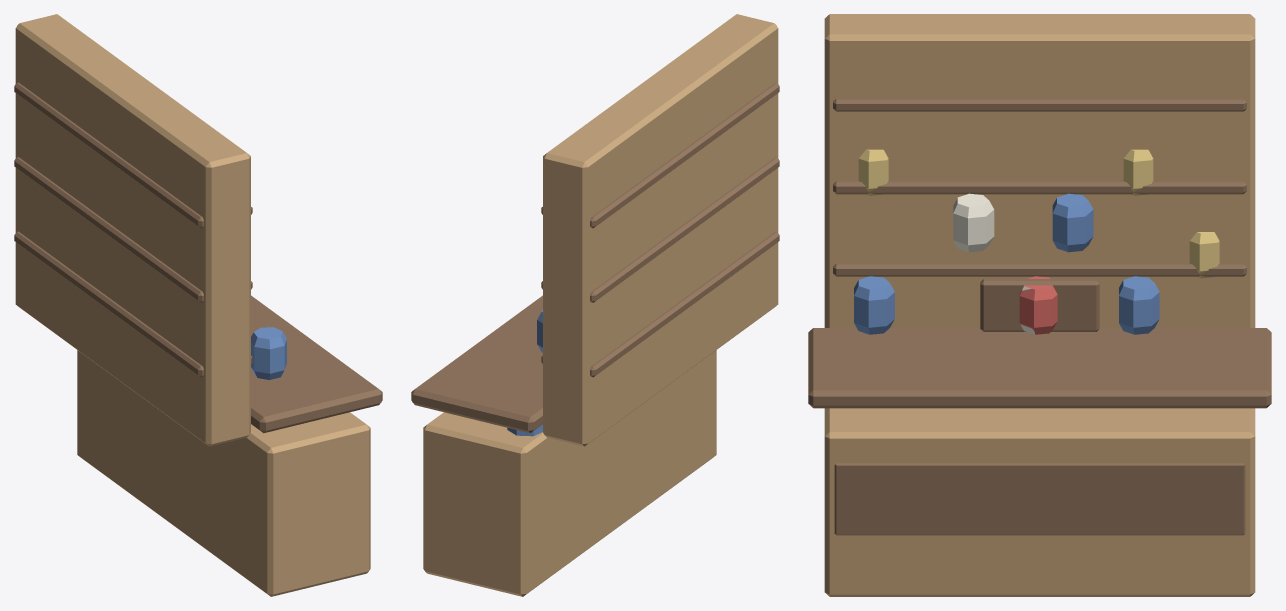
The model's file is town_shop_counter.glb.
3 renders of one model, left to right at view 1: azimuth 30°, elevation 25°; view 2: azimuth 150°, elevation 25°; view 3: azimuth 270°, elevation 25°, orthographic. The views are drawn at different scales.
Parts seen in each view (by area): view 1: world; view 2: world; view 3: world.
Boxes of the visible parts, x1,y1,x2,y2 form: world: [14, 14, 382, 596]; world: [411, 14, 779, 596]; world: [808, 14, 1271, 596].
Bounding box in the file's own units: 0.8103 × 2 × 1.69.
